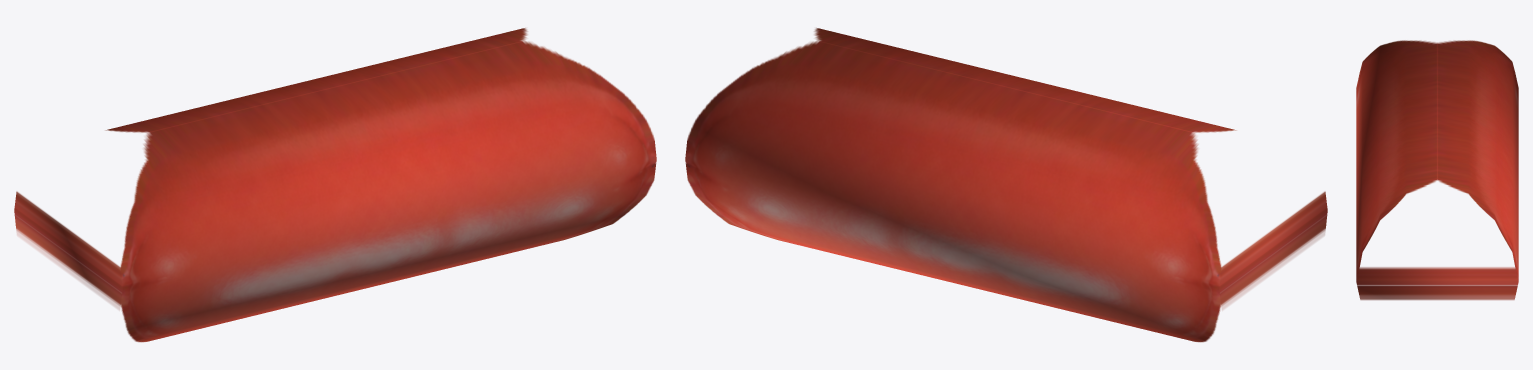
The model's file is sausage.glb.
The picture shows the model from 3 angles, left to right: view 1: azimuth 30°, elevation 25°; view 2: azimuth 150°, elevation 25°; view 3: azimuth 270°, elevation 25°; orthographic projection. The views are drawn at different scales.
Visible parts, largest first — view 1: sausage; view 2: sausage; view 3: sausage.
Boxes of the visible parts, x1,y1,x2,y2 form: sausage: [14, 28, 656, 342]; sausage: [685, 28, 1327, 342]; sausage: [1356, 40, 1518, 300].
Size of the model in its own units: 1.15 by 0.4035 by 0.4034.
1 material, 1 textured.
